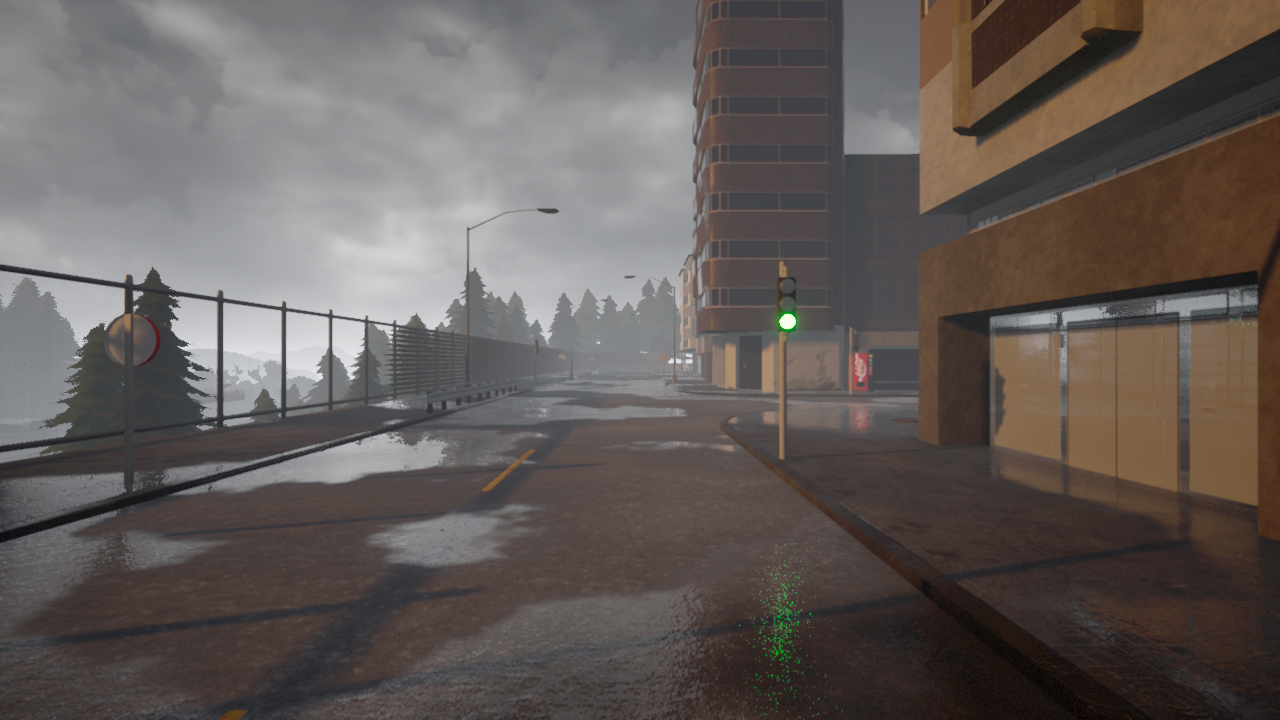green: (776, 273, 798, 331)
